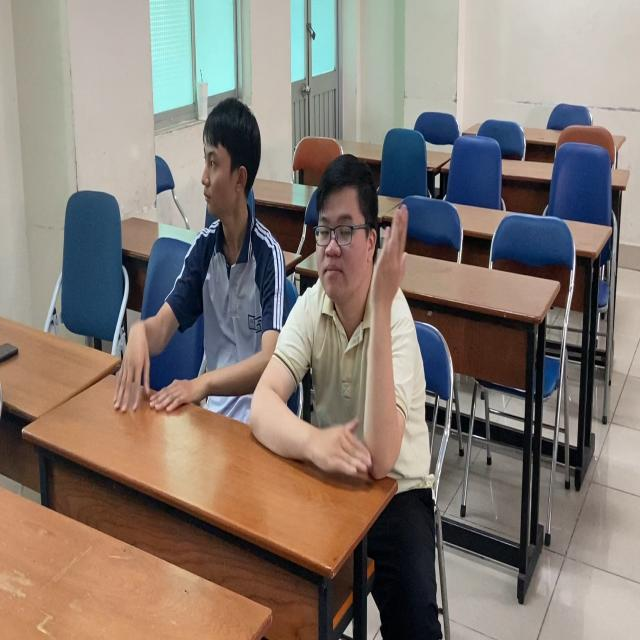raise_hand: (248, 141, 429, 509)
